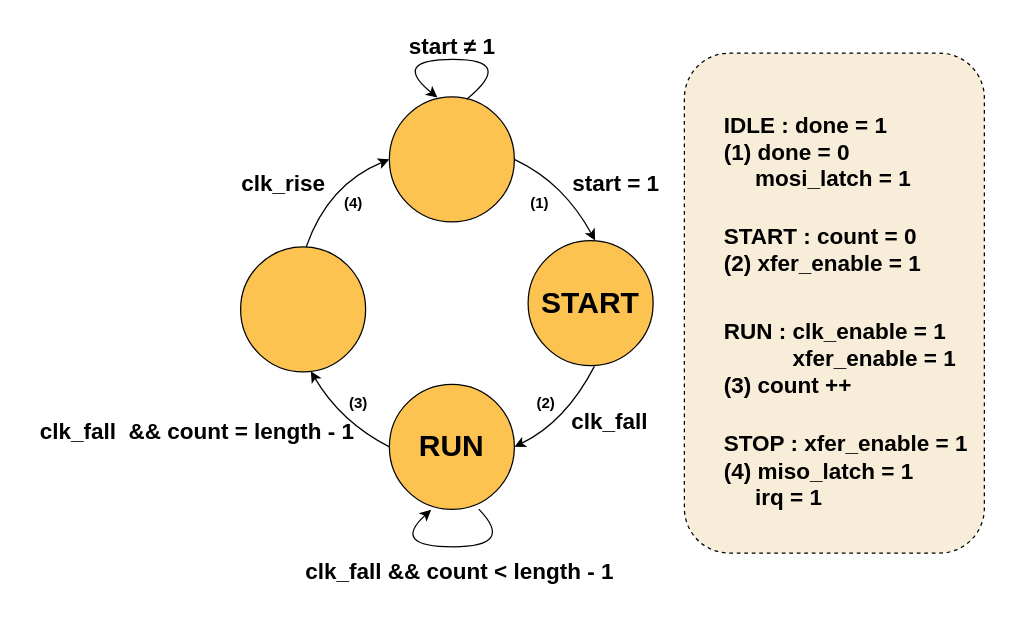
This 1018x618 diagram has some shape labels left out. The shapes that lost their labels are listed below. From the top down, each one's centre as x and y in pixels, then its label:
At point 451,159: "IDLE".
At point 302,309: "STOP".
